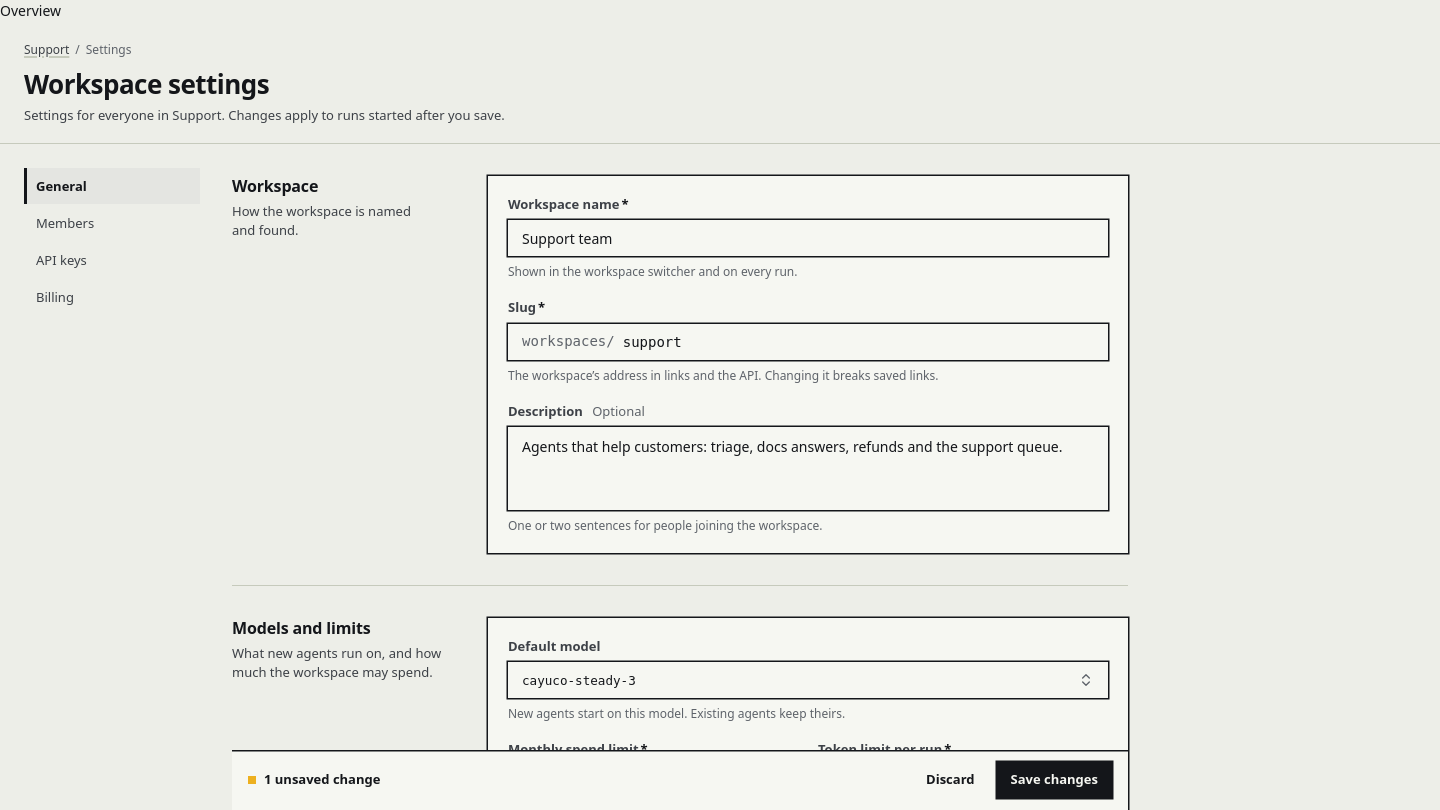
SettingsPage › discards with an undo instead of a dialog
Click the button "Discard" at (950, 780), box [912,762,989,798]
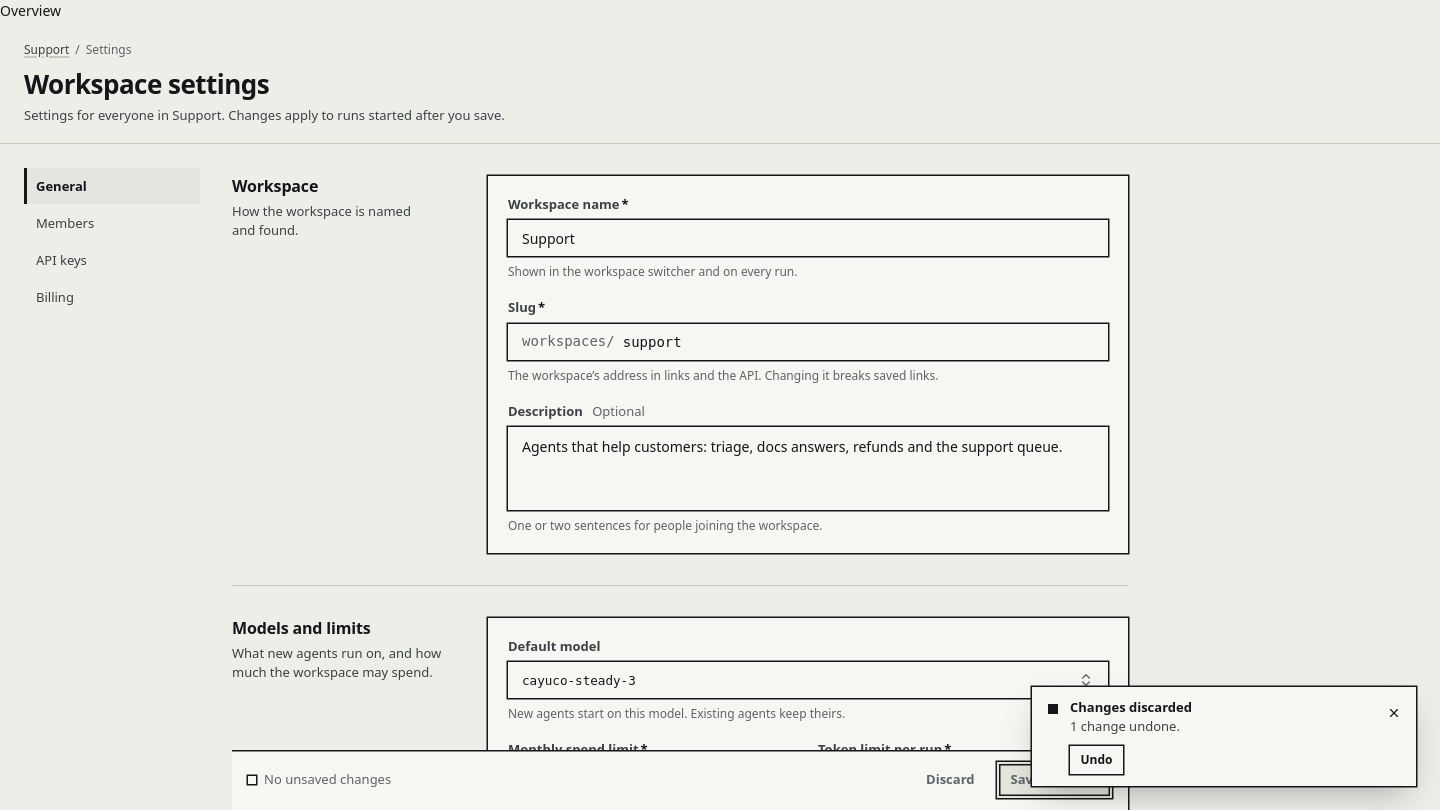
Check: the field labelled "Workspace name" holds "Support", box [522,220,1094,256]
Check: the message reads "No unsaved changes", box [264,771,391,789]
Click the button "Undo" at (1096, 760), box [1070,746,1123,774]
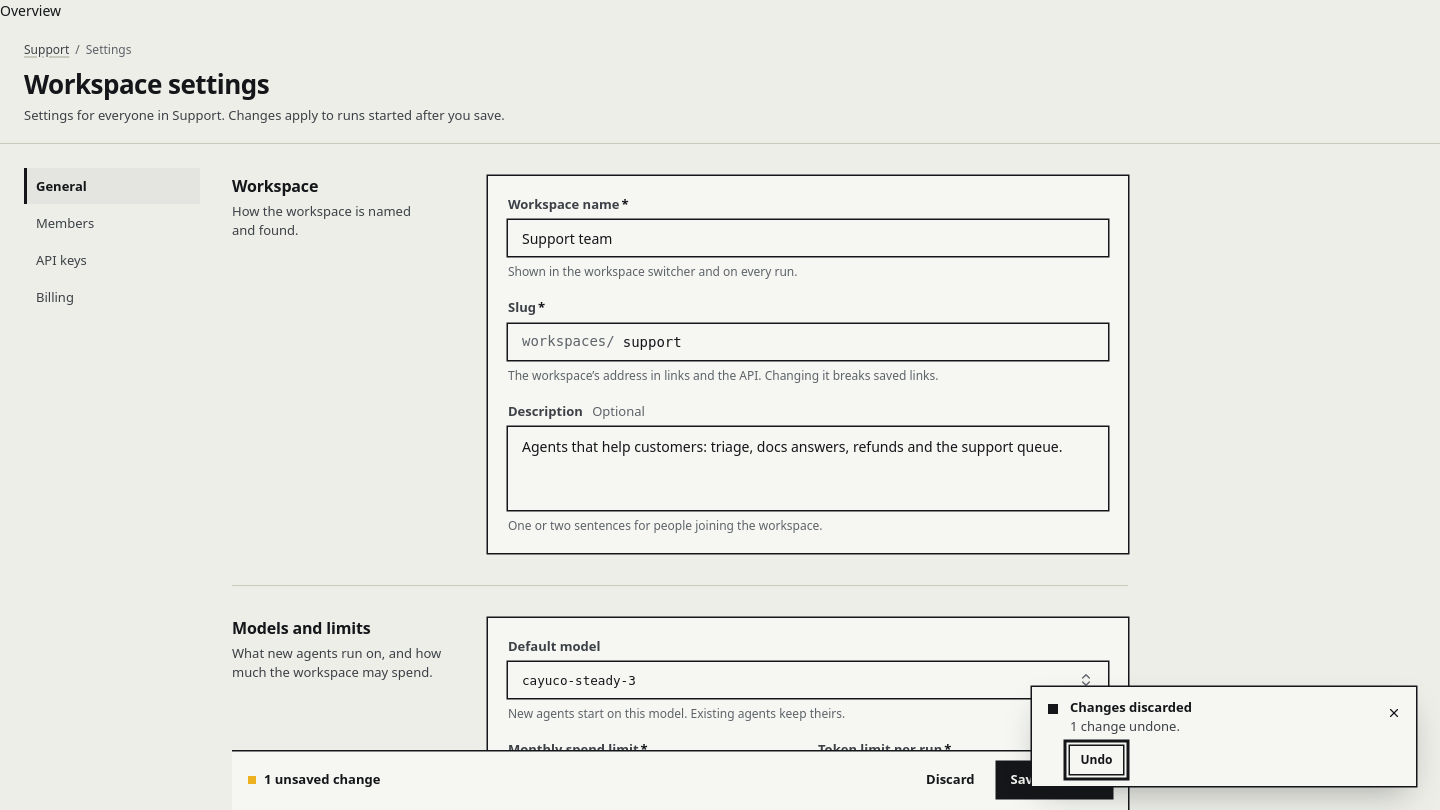
Check: the field labelled "Workspace name" holds "Support team", box [522,220,1094,256]
